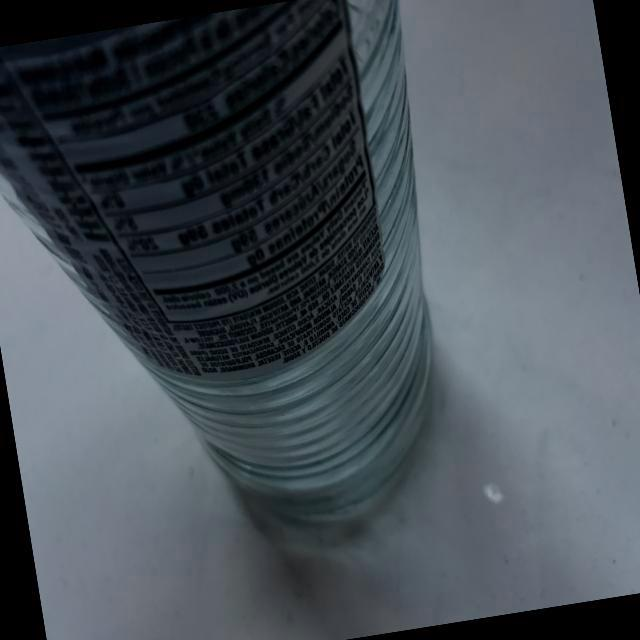glass: (0, 0, 496, 576)
